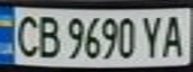0: (118, 13, 139, 60)
6: (81, 14, 103, 61)
9: (60, 13, 84, 60), (100, 14, 121, 61)
A: (160, 11, 190, 58)
B: (33, 12, 63, 60)
C: (9, 11, 42, 58)
Y: (139, 12, 166, 60)
